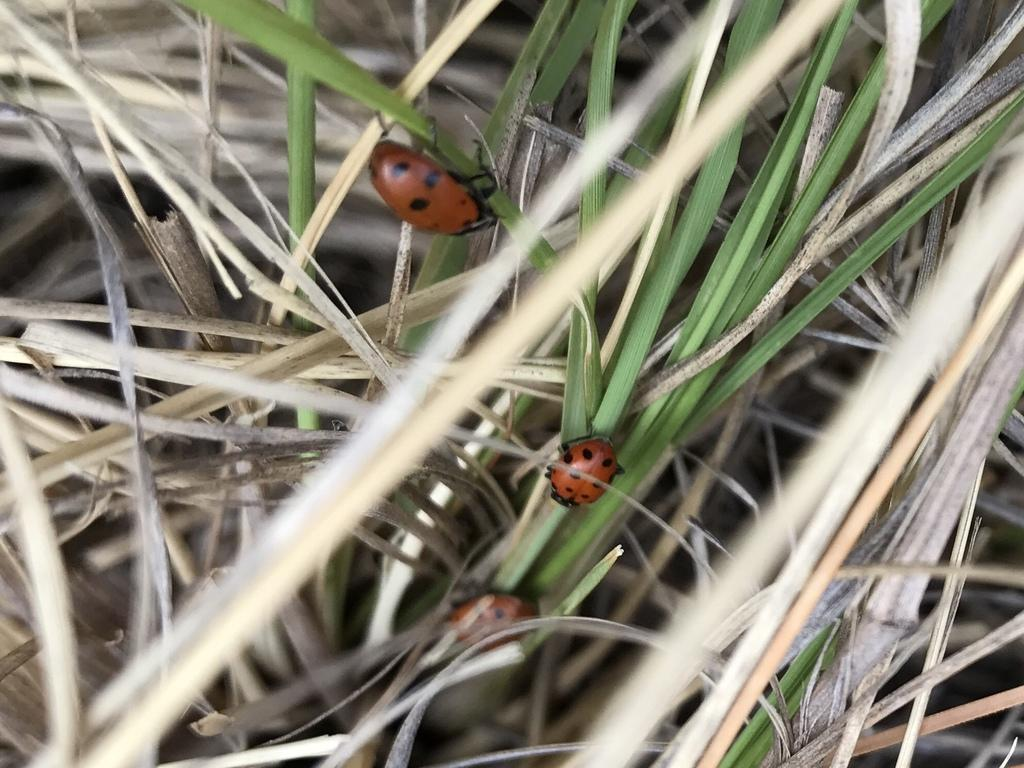ladybug: (447, 566, 544, 653), (544, 431, 629, 512)
